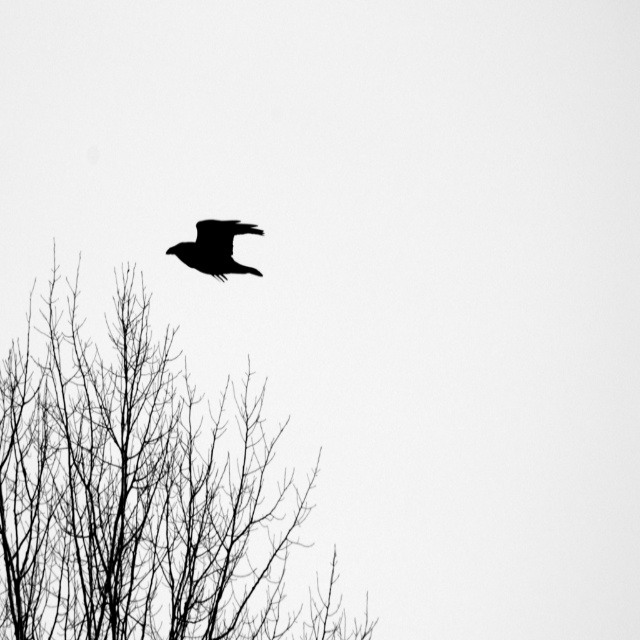Raven: (156, 210, 259, 280)
